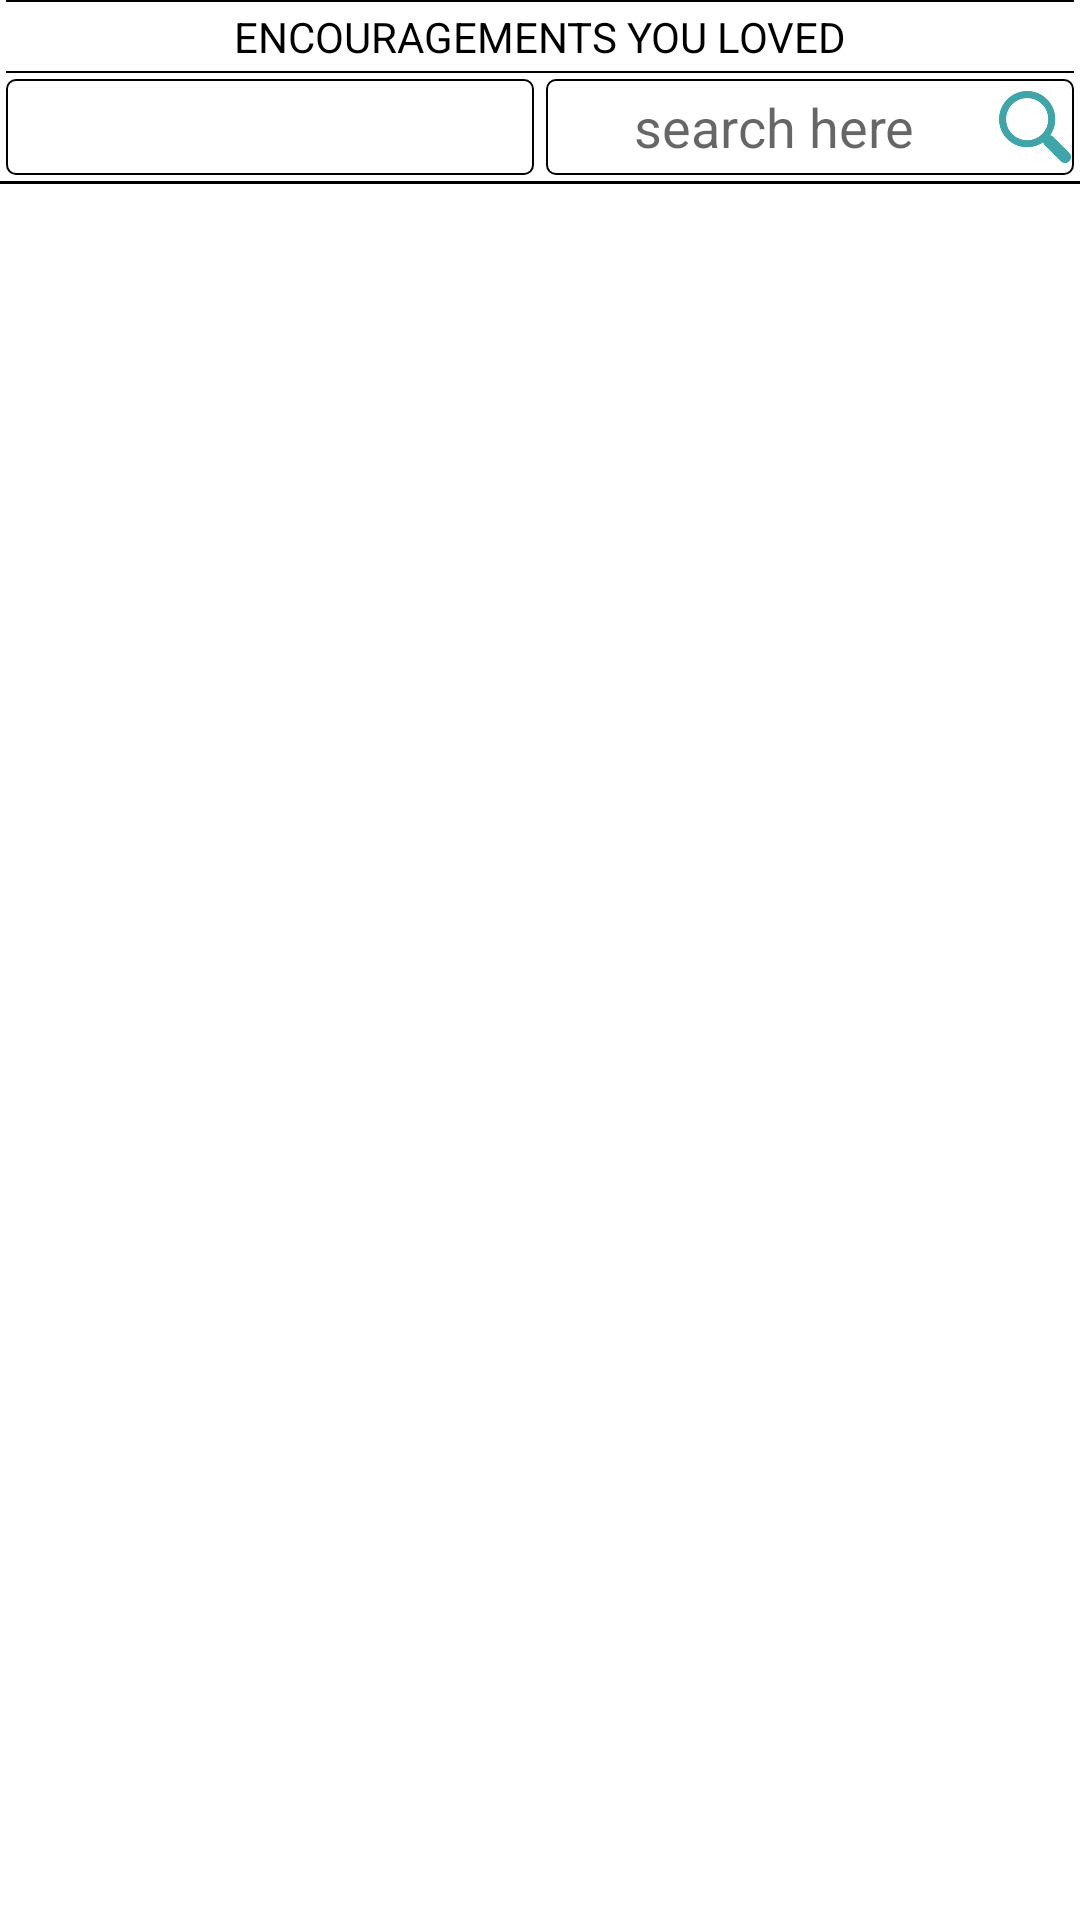

Where icons sit on this 1080px x 1920px app screen, as {"x1": x1, "y1": y1, "x2": x2, "y2": y2}:
search bar: {"x1": 999, "y1": 91, "x2": 1071, "y2": 163}
